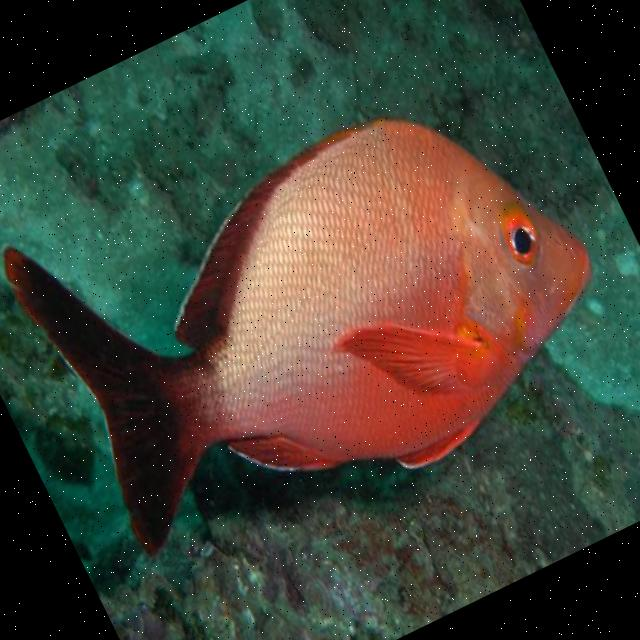ikan: (0, 14, 640, 598)
